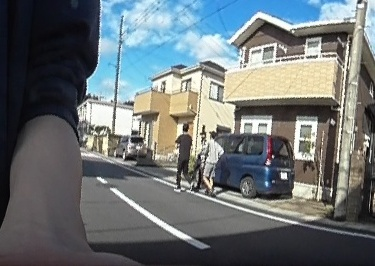person: (174, 123, 191, 192), (203, 131, 221, 192)
